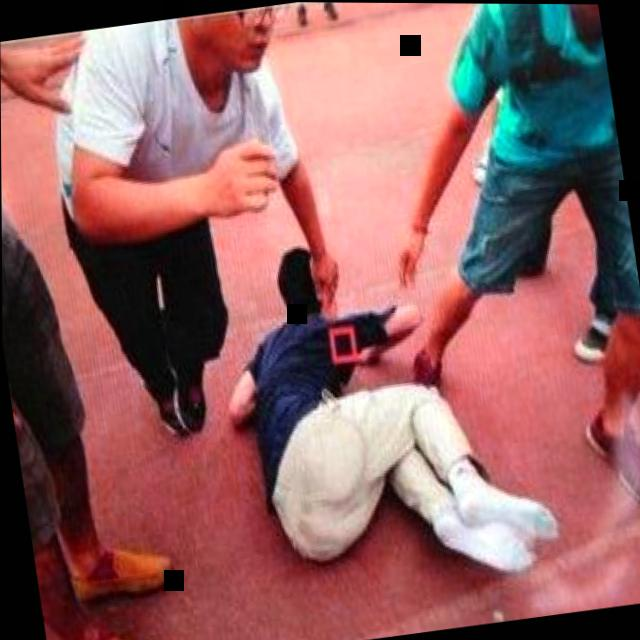Fall-Detected: (193, 189, 570, 621)
